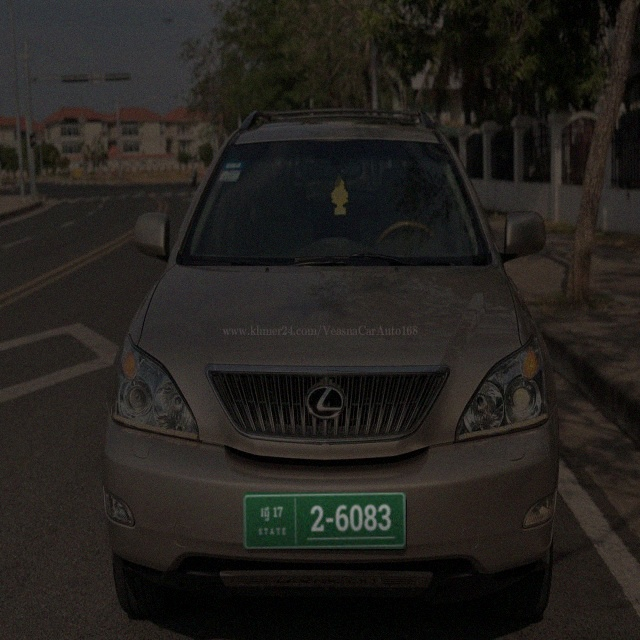Plate Number: (244, 492, 406, 549)
